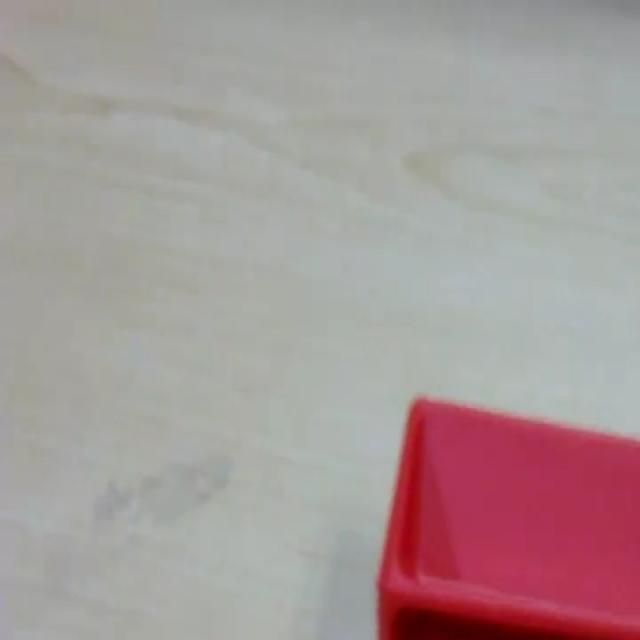red_block: (376, 392, 638, 637)
